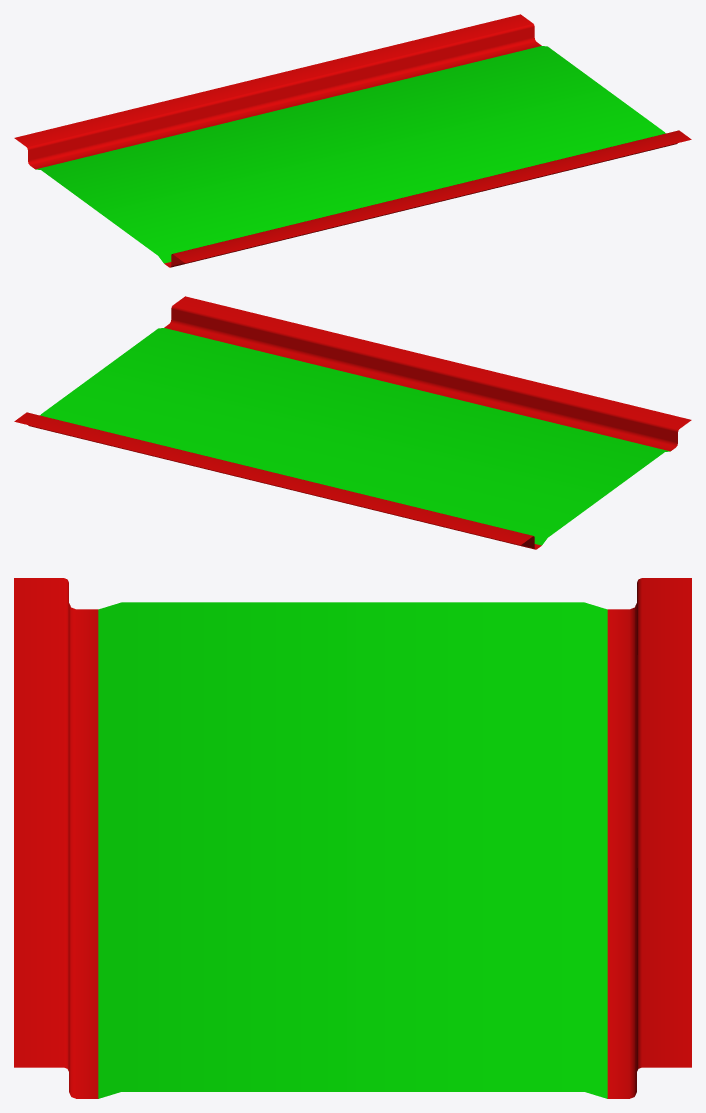
Rendered from Estrada.fbx.
The picture shows the model from 3 angles, top to bottom: view 1: azimuth 30°, elevation 25°; view 2: azimuth 150°, elevation 25°; view 3: azimuth 270°, elevation 25°; orthographic projection. The views are drawn at different scales.
Parts seen in each view (by area): view 1: Plane; view 2: Plane; view 3: Plane.
Boxes of the visible parts, x1,y1,x2,y2 form: Plane: (14, 14, 691, 267); Plane: (14, 296, 691, 549); Plane: (14, 578, 691, 1098).
Size of the model in its own units: 1000 by 29.97 by 585.
